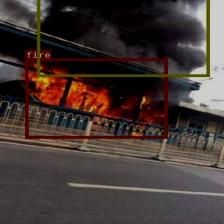fire: (25, 58, 167, 138)
smoke: (36, 0, 209, 76)
